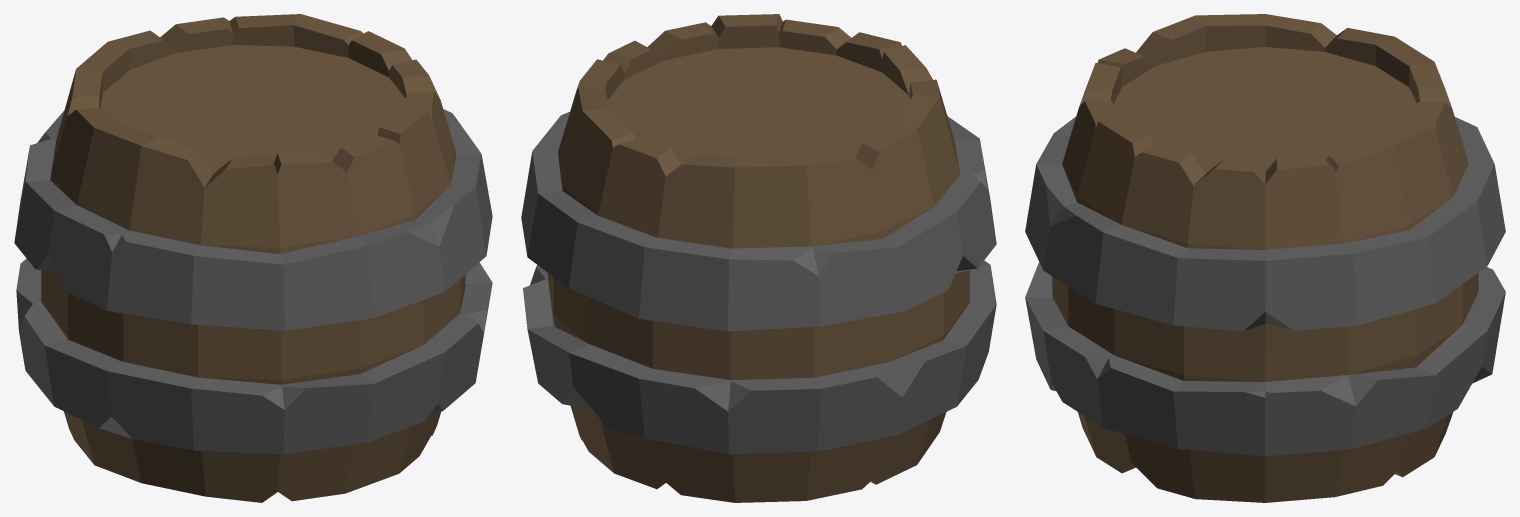
The model's file is Low Poly Barrel.fbx.
3 views of the same model, side by side, from view 1: azimuth 30°, elevation 25°; view 2: azimuth 150°, elevation 25°; view 3: azimuth 270°, elevation 25° (orthographic).
Visible parts, largest first — view 1: Cylinder.001; view 2: Cylinder.001; view 3: Cylinder.001.
Part boxes in pixels (x1,y1,x2,y2): Cylinder.001: [14, 14, 492, 502]; Cylinder.001: [521, 14, 996, 502]; Cylinder.001: [1025, 14, 1505, 502].
Size of the model in its own units: 262 by 205 by 263.
